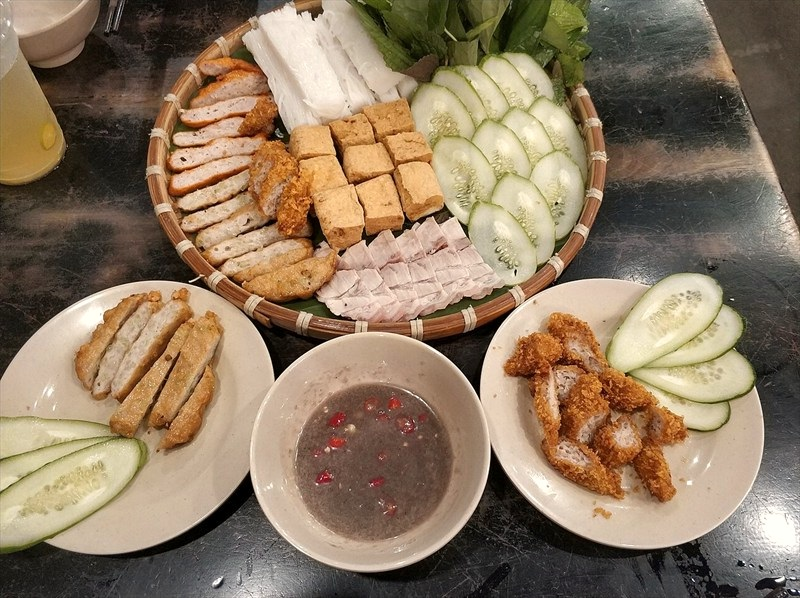Tahu Goreng: (97, 64, 713, 499)
